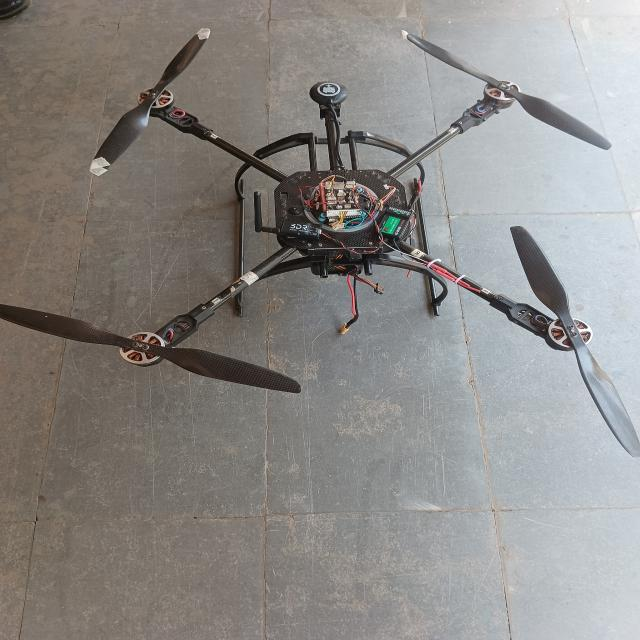drone: (0, 8, 640, 475)
